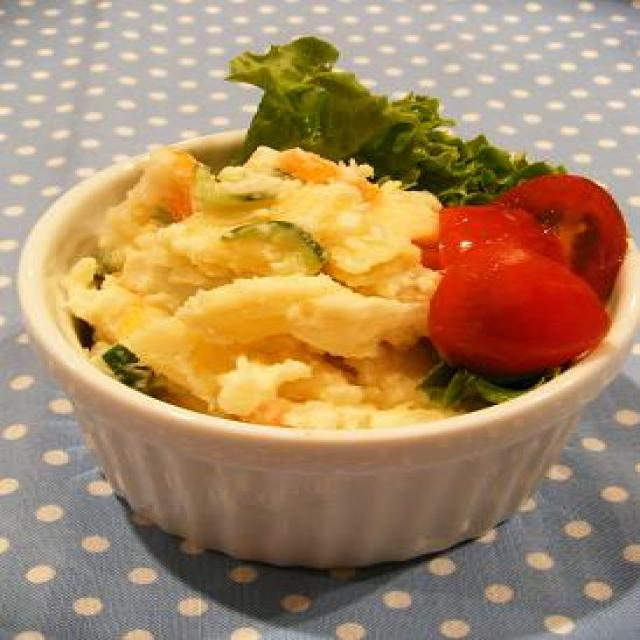蔬菜料理: (11, 31, 640, 569)
